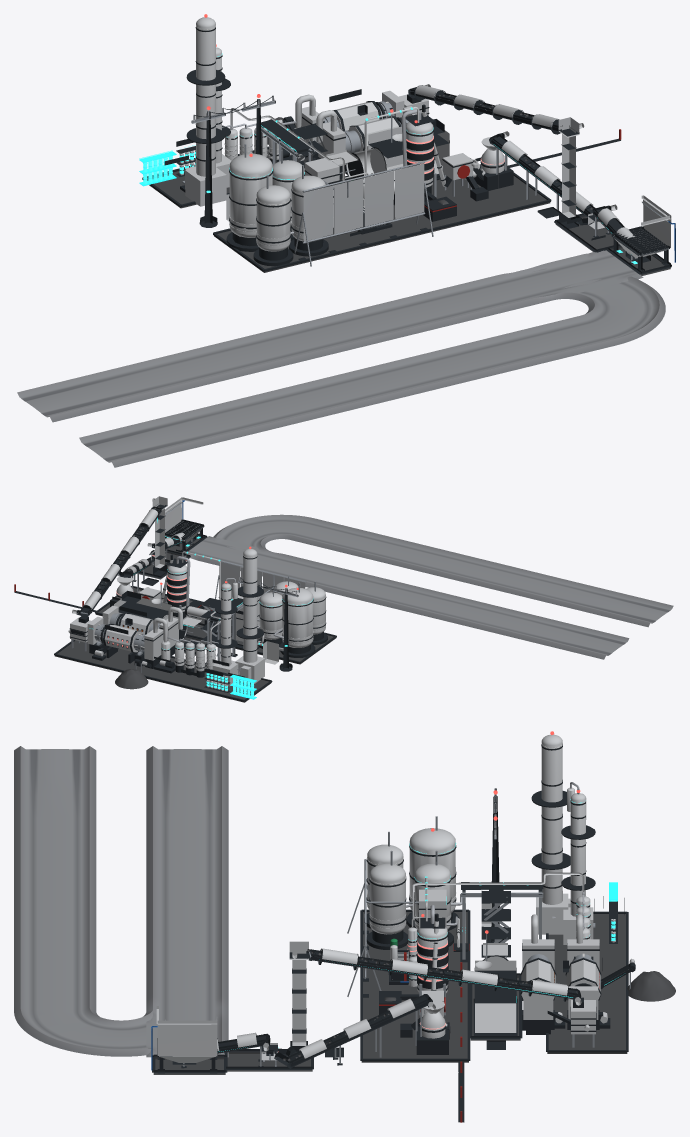
Rendered from refinery_bb5eed2.glb.
3 views of the same model, one above another, from view 1: azimuth 30°, elevation 25°; view 2: azimuth 150°, elevation 25°; view 3: azimuth 270°, elevation 25° (orthographic). The views are drawn at different scales.
Parts seen in each view (by area): view 1: Base_Paint, Tier_20, Tier_12, Tier_08, Tier_03; view 2: Base_Paint, Tier_12, Tier_08, Tier_20, Tier_03, Base_GlowCyan, Kiln_Drum, Intake_Grate; view 3: Base_Paint, Tier_12, Tier_20, Tier_08.
Boxes of the visible parts, x1,y1,x2,y2 form: Base_Paint: (17, 47, 675, 467); Tier_20: (253, 165, 328, 266); Tier_12: (185, 17, 226, 206); Tier_08: (316, 106, 416, 177); Tier_03: (139, 150, 176, 186); Base_Paint: (14, 496, 673, 702); Tier_12: (235, 549, 264, 683); Tier_08: (102, 605, 182, 655); Tier_20: (274, 576, 327, 644); Tier_03: (230, 674, 256, 699); Base_GlowCyan: (89, 518, 313, 690); Kiln_Drum: (94, 624, 145, 652); Intake_Grate: (165, 520, 201, 537); Base_Paint: (14, 746, 675, 1122); Tier_12: (531, 734, 570, 934); Tier_20: (364, 831, 412, 949); Tier_08: (520, 914, 570, 1034).
Bounding box in the file's own units: 60 × 15.14 × 45.01.
